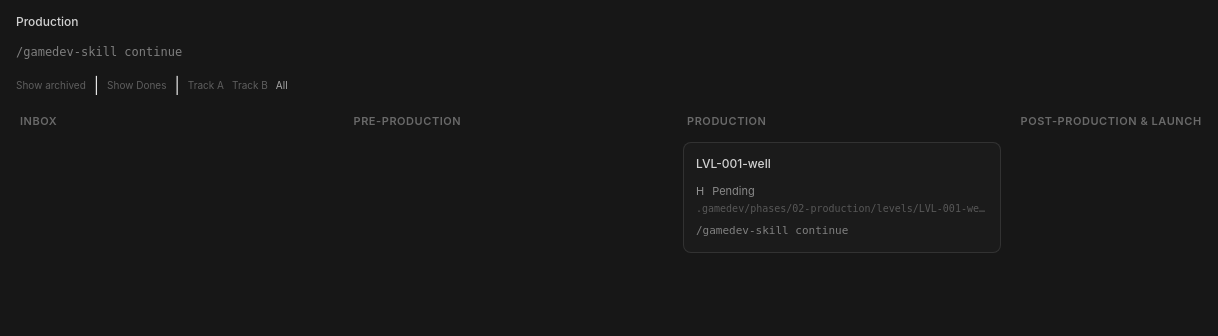
it: GameBoardTab › LVL expand shows recent changelog when JSON recent is set
The width and height of the screenshot is (1218, 336).
Click the button "LVL-001-well".
click(733, 163)  # box [696,154,988,172]
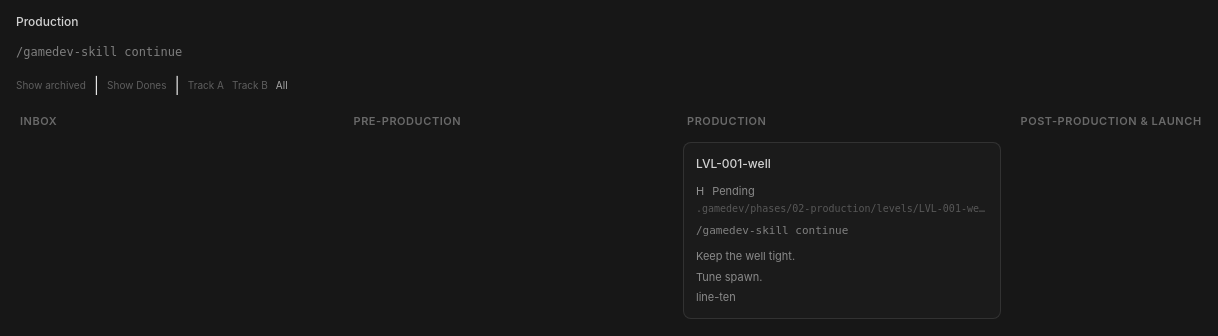
Expected: the element that starts with "LVL-001-well" shows "Keep the well tight.", [696,249,795,263]
Expected: the element that starts with "LVL-001-well" shows "Tune spawn.", [696,270,762,284]
Expected: the element that starts with "LVL-001-well" shows "line-ten", [696,290,736,304]
